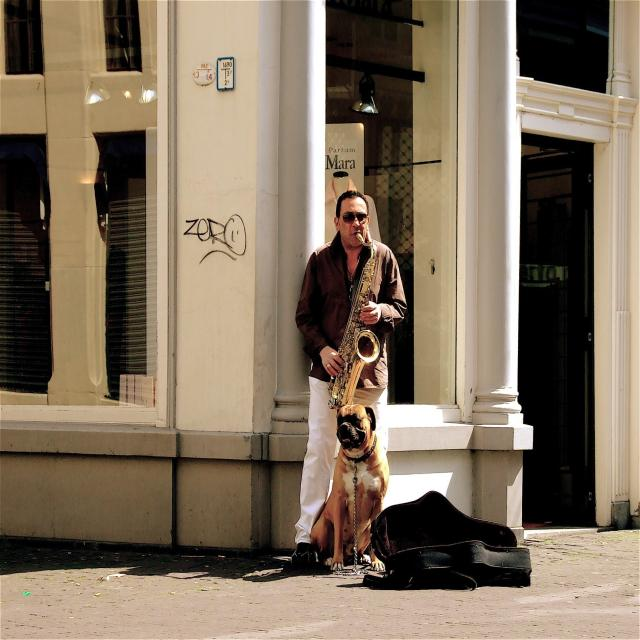saxophone: (328, 231, 380, 417)
